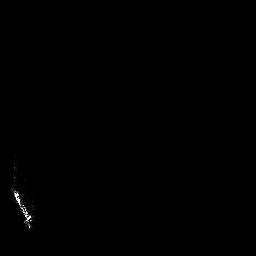ship: (9, 159, 33, 230)
